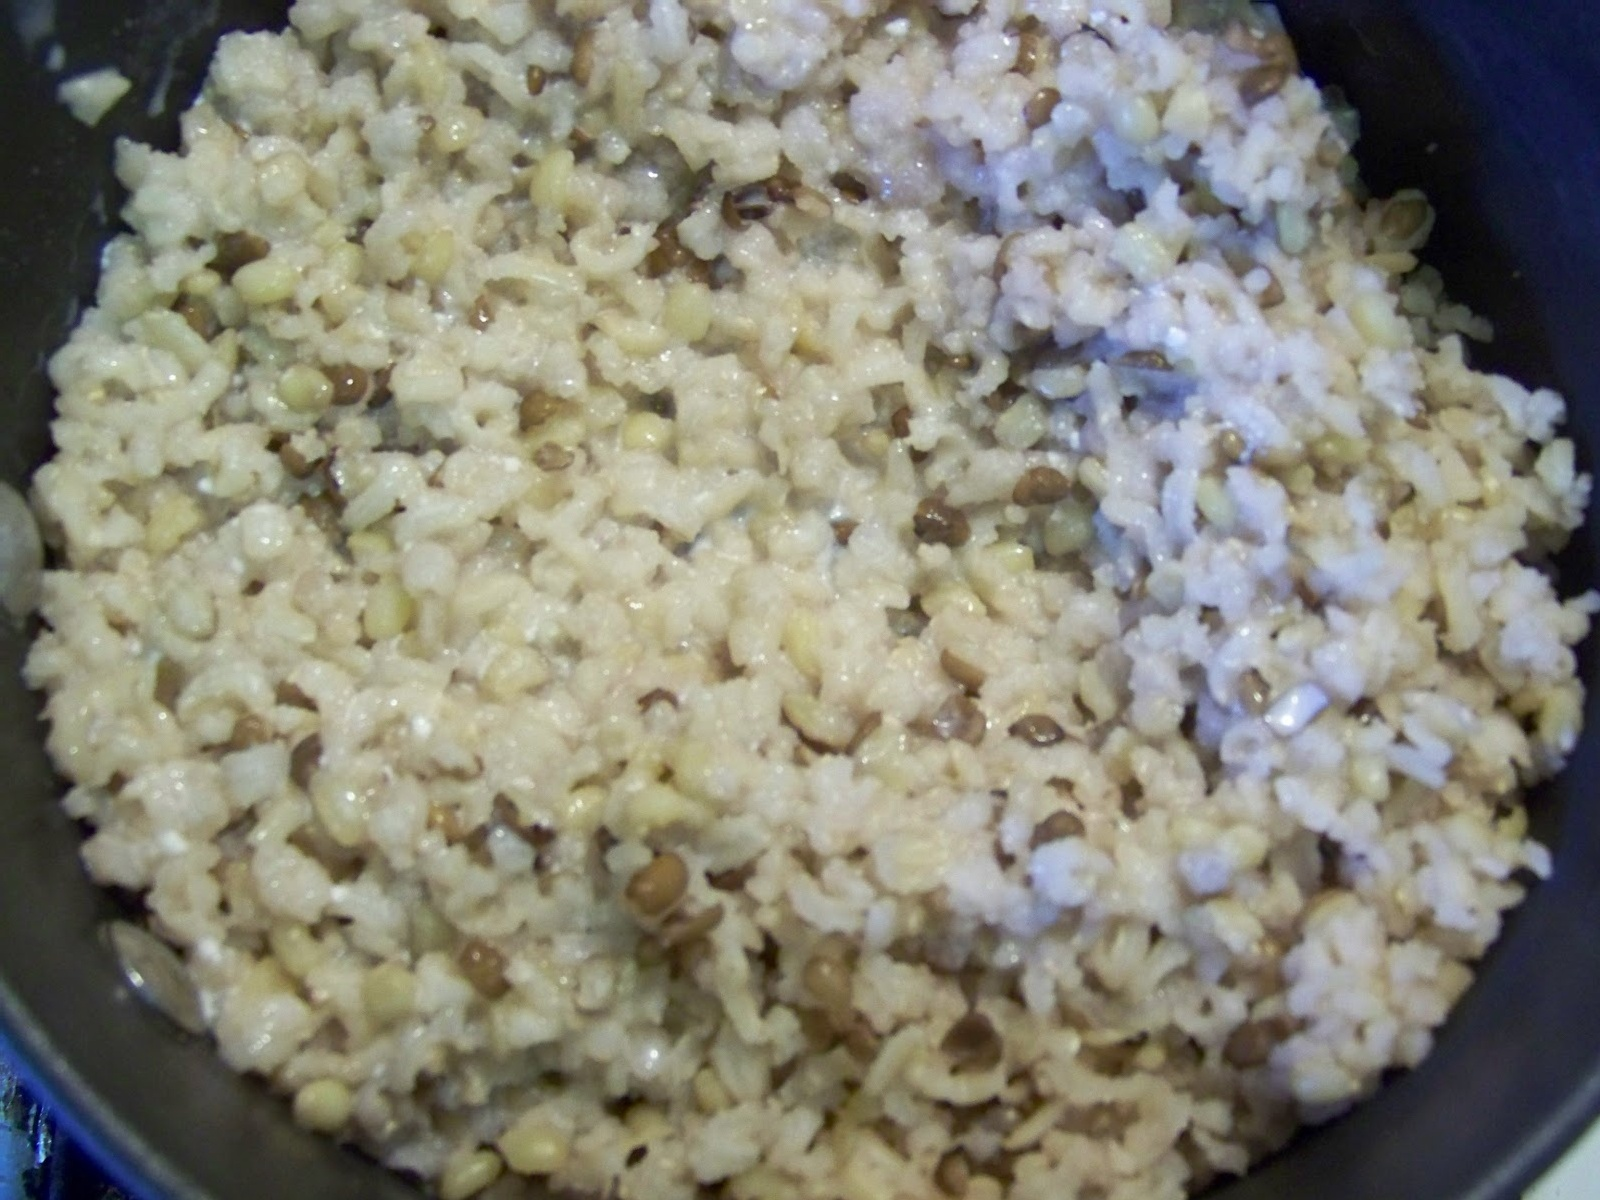kiribath: (40, 6, 1571, 1199)
